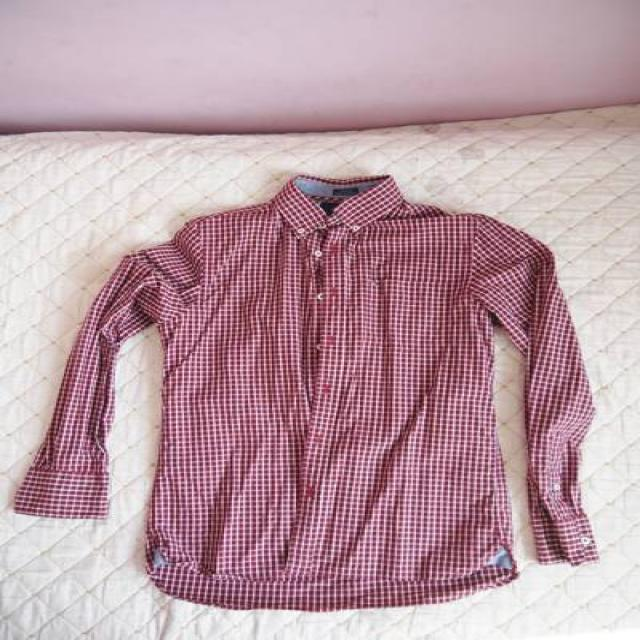Clothes -Biodegradable-: (15, 173, 598, 617)
